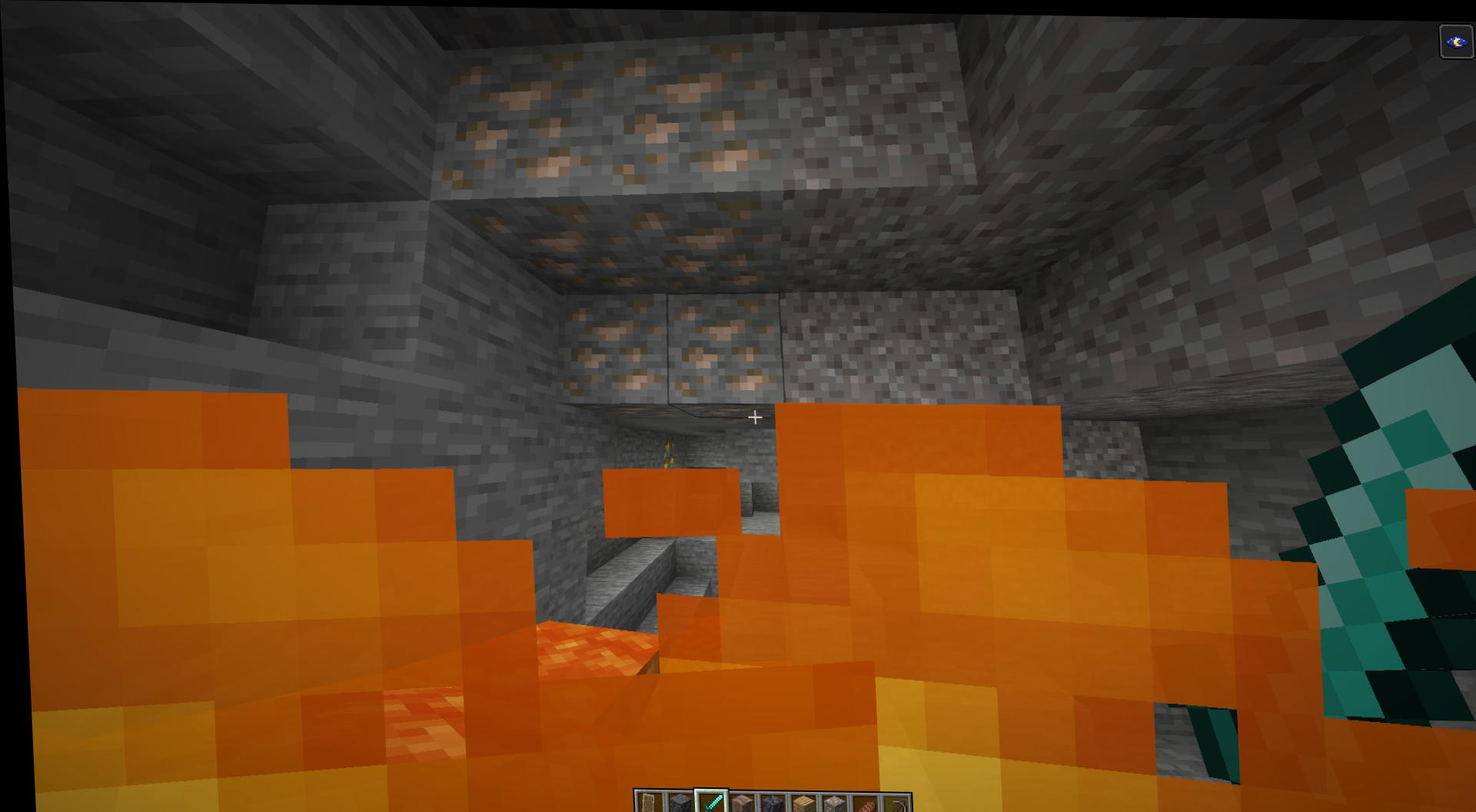iron ore: (587, 44, 785, 182), (441, 44, 594, 189), (546, 282, 676, 405), (481, 193, 635, 285), (633, 195, 774, 292), (671, 292, 792, 405)
